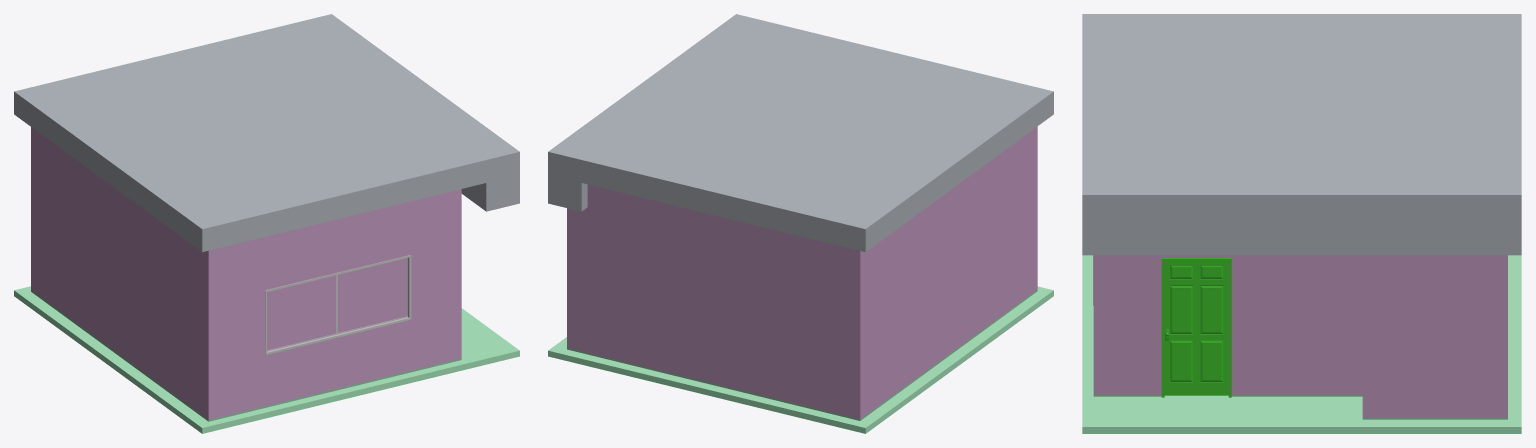
File: FloorPlan8.fbx
3 views of the same model, side by side, from view 1: azimuth 30°, elevation 25°; view 2: azimuth 150°, elevation 25°; view 3: azimuth 270°, elevation 25° (orthographic). The views are drawn at different scales.
Parts seen in each view (by area): view 1: Ceiling, StandardWallSize, FloorMat, Window, WindowFrame; view 2: StandardWallSize, Ceiling, FloorMat; view 3: Ceiling, StandardWallSize, FloorMat, StandardDoor1, StandardDoorFrame1.
Boxes of the visible parts, left/top/right/bottom form: Ceiling: left=14, top=14, right=519, bottom=251; StandardWallSize: left=31, top=127, right=461, bottom=421; FloorMat: left=14, top=286, right=519, bottom=433; Window: left=267, top=258, right=406, bottom=350; WindowFrame: left=265, top=255, right=411, bottom=355; StandardWallSize: left=567, top=126, right=1037, bottom=420; Ceiling: left=548, top=14, right=1053, bottom=251; FloorMat: left=548, top=286, right=1053, bottom=433; Ceiling: left=1082, top=14, right=1521, bottom=255; StandardWallSize: left=1093, top=255, right=1507, bottom=419; FloorMat: left=1082, top=255, right=1521, bottom=433; StandardDoor1: left=1164, top=261, right=1228, bottom=395; StandardDoorFrame1: left=1161, top=258, right=1231, bottom=397.
Bounding box in the file's own units: 565 × 348 × 580.
